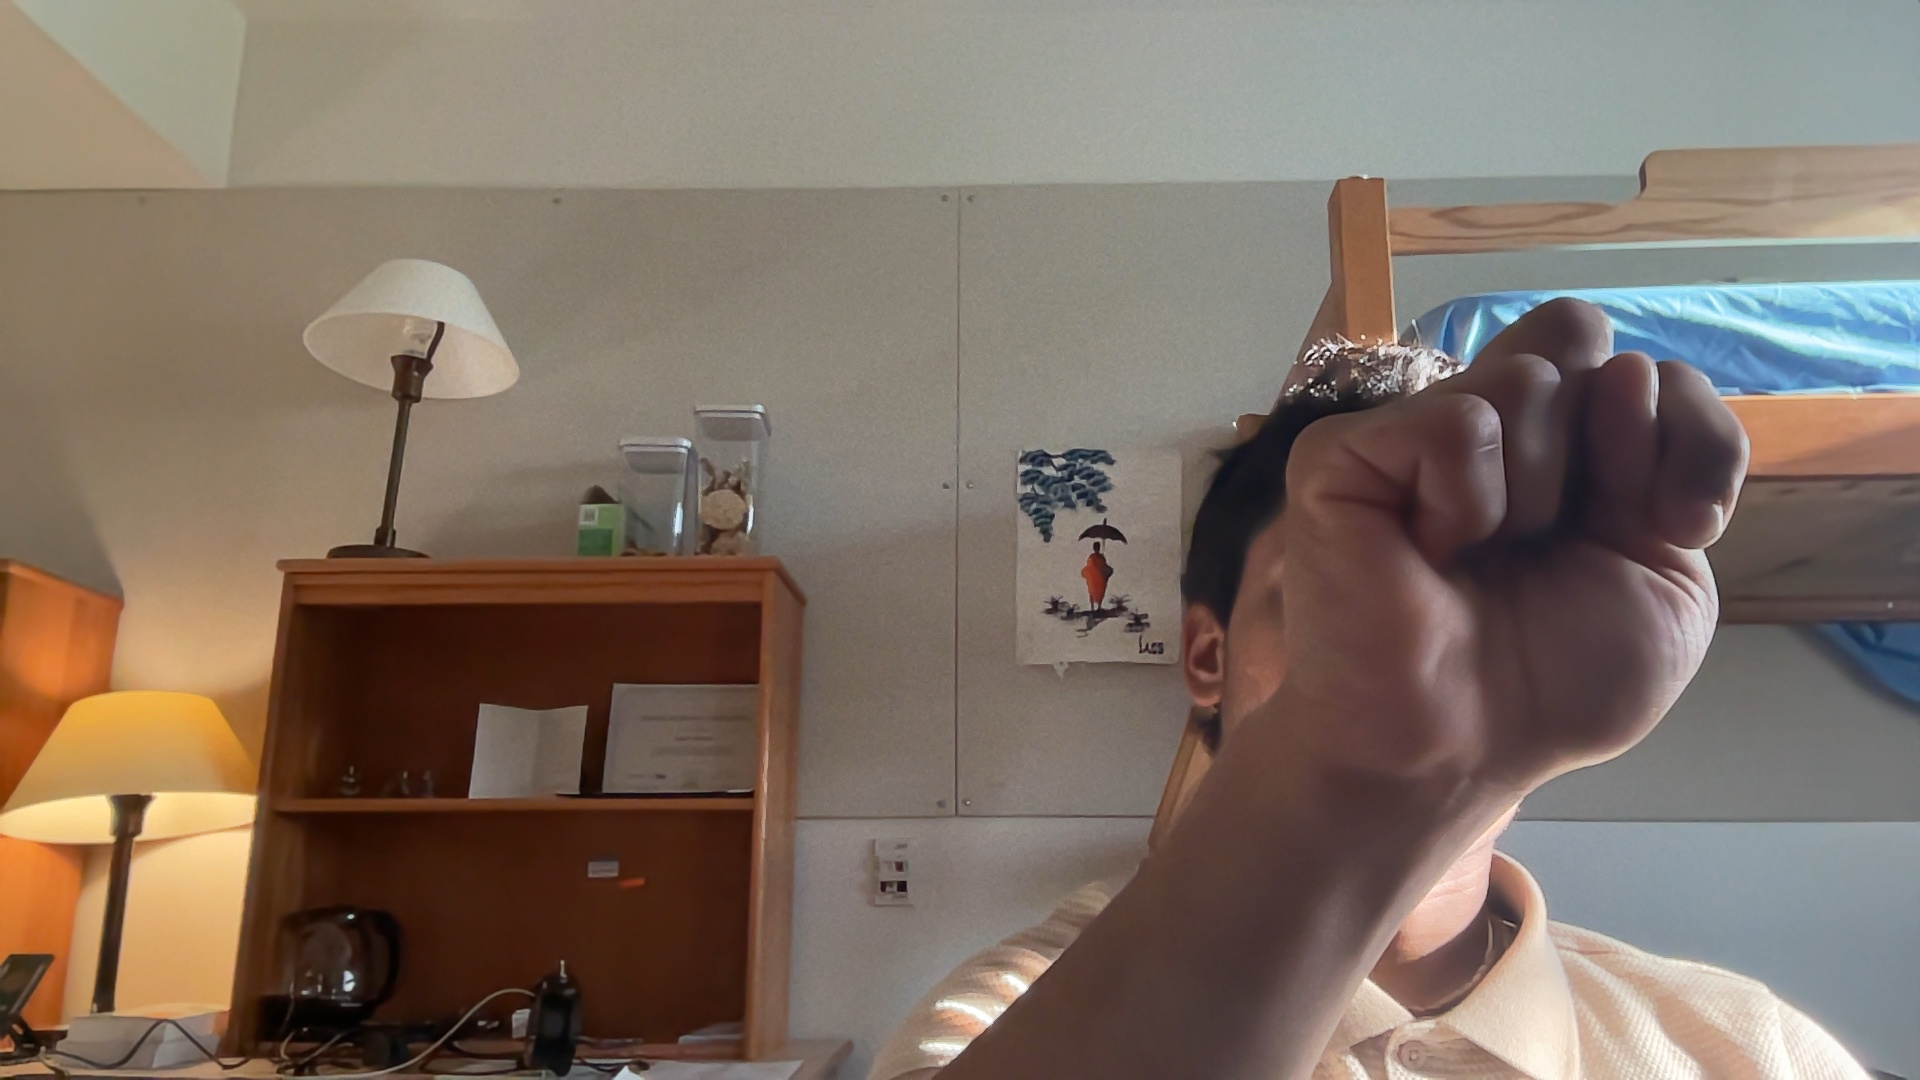t: (1171, 305, 1797, 794)
